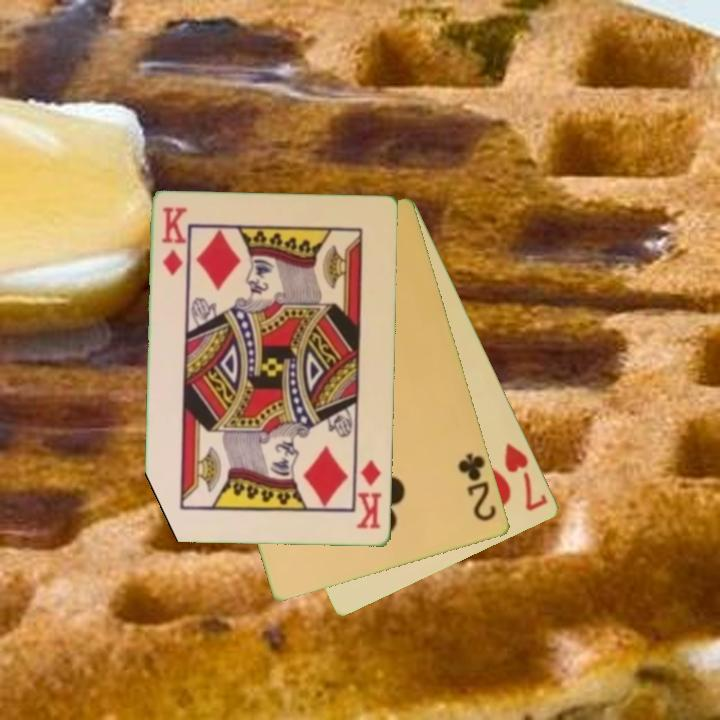2c: (455, 450, 500, 525)
7h: (501, 439, 552, 514)
Kd: (353, 456, 385, 532), (158, 204, 189, 279)
